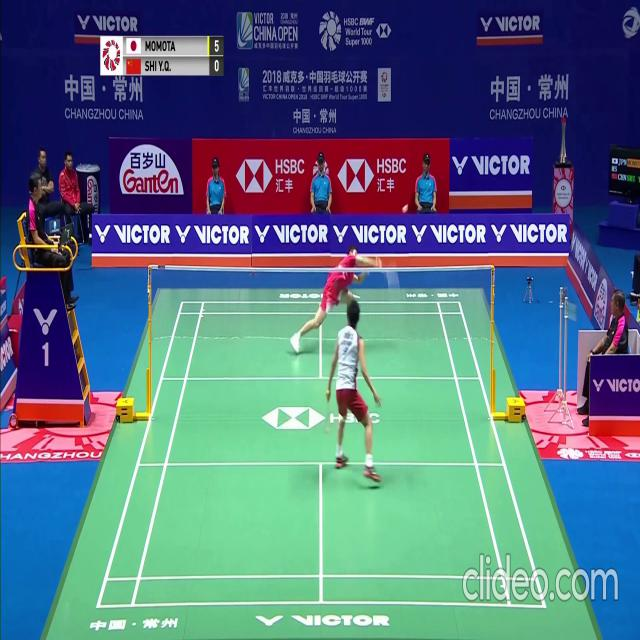Shuttlecock: (404, 202, 409, 209)
